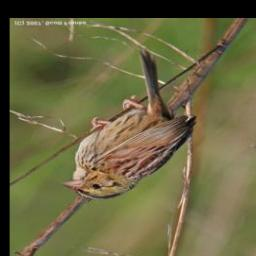Sparrow: (60, 45, 199, 200)
